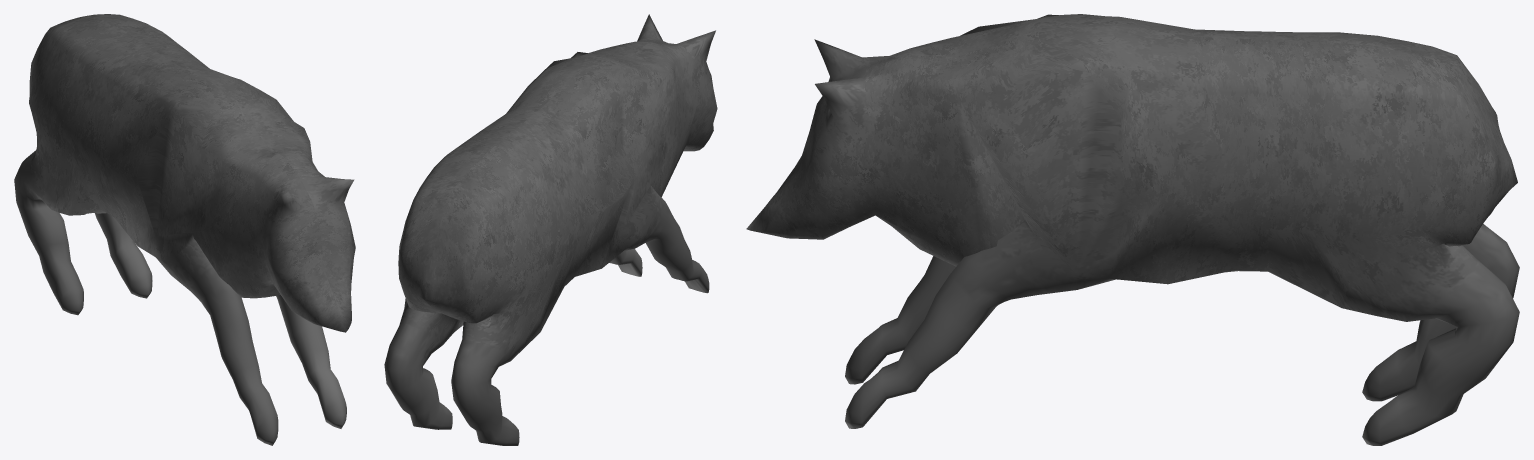
File: piesblend_000028.obj
3 renders of one model, left to right at view 1: azimuth 30°, elevation 25°; view 2: azimuth 150°, elevation 25°; view 3: azimuth 270°, elevation 25°, orthographic. The views are drawn at different scales.
Parts seen in each view (by area): view 1: Cube; view 2: Cube; view 3: Cube.
Boxes of the visible parts, left/top/right/bottom form: Cube: left=14, top=14, right=355, bottom=445; Cube: left=384, top=14, right=717, bottom=445; Cube: left=746, top=14, right=1519, bottom=445.
Bounding box in the file's own units: 2.55 × 5.19 × 9.19.
1 material, 1 textured.
